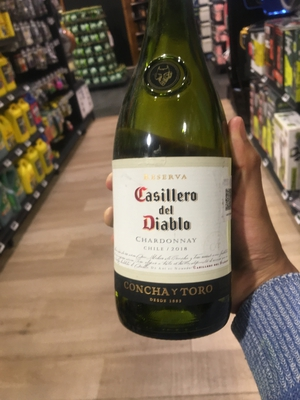casillero del diablo chardonnay: (109, 12, 237, 330)
